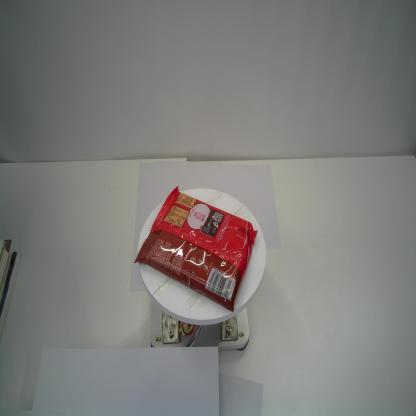Dessert: (132, 185, 258, 312)
